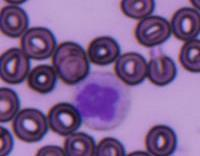N: (71, 70, 130, 128)
